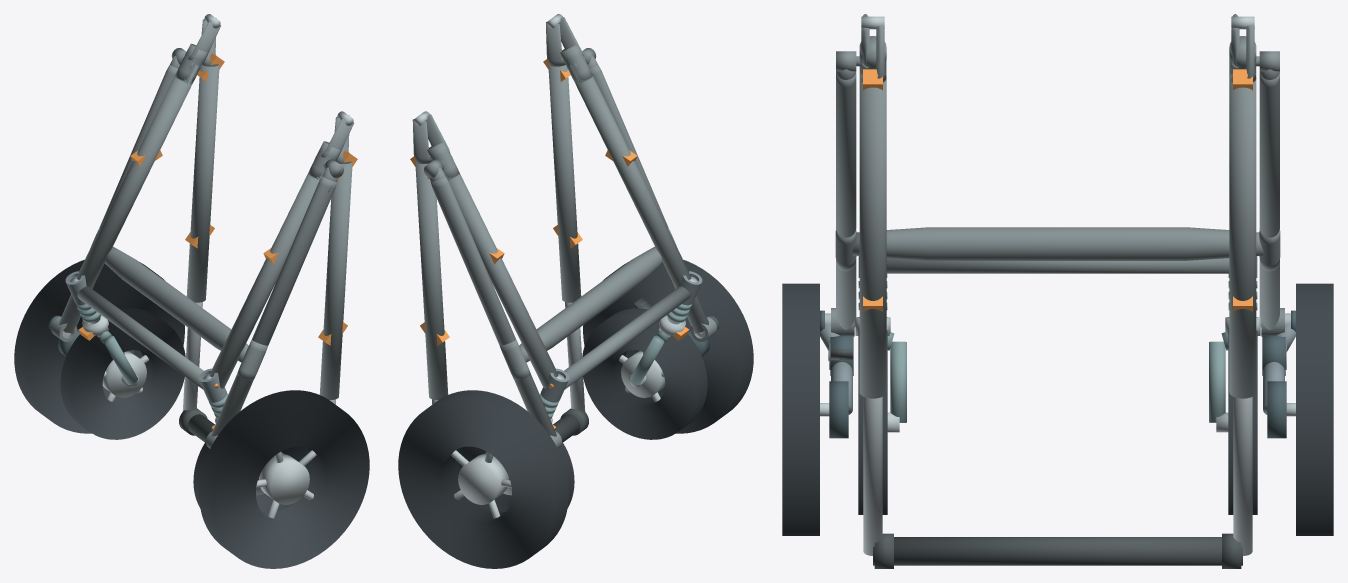
The model's file is w550_state3.glb.
The picture shows the model from 3 angles, left to right: view 1: azimuth 30°, elevation 25°; view 2: azimuth 150°, elevation 25°; view 3: azimuth 270°, elevation 25°; orthographic projection. The views are drawn at different scales.
Parts seen in each view (by area): view 1: RL_tire.004, FR_tire.004, RR_tire.004, main_upper_1.005, main_lower_1.005, main_upper_-1.005, V46_rear_leg_-1.005, main_lower_-1.005, V46_rearbar.005, front_fixed_round_tube.004, RL_sealed_hub.004, V46_rear_leg_1.005 (+11 smaller); view 2: RR_tire.004, FL_tire.004, RL_tire.004, main_upper_-1.005, main_lower_-1.005, main_upper_1.005, V46_rear_leg_1.005, main_lower_1.005, V46_rearbar.005, front_fixed_round_tube.004, RR_sealed_hub.004, V46_rear_leg_-1.005 (+11 smaller); view 3: V46_rearbar.005, RL_tire.004, RR_tire.004, round_handle.004, main_upper_1.005, main_upper_-1.005, front_fixed_round_tube.004, V46_rear_leg_1.005, V46_rear_leg_-1.005, handle_slider_1.004, handle_slider_-1.004, FL_tire.004 (+8 smaller).
Boxes of the visible parts, box(x1,y1,x2,y2) form: RL_tire.004: box(199, 390, 369, 568); FR_tire.004: box(60, 308, 185, 439); RR_tire.004: box(14, 259, 184, 433); main_upper_1.005: box(186, 65, 219, 302); main_lower_1.005: box(76, 65, 198, 288); main_upper_-1.005: box(319, 162, 352, 399); V46_rear_leg_-1.005: box(211, 176, 337, 436); main_lower_-1.005: box(209, 170, 324, 388); V46_rearbar.005: box(105, 246, 248, 362); front_fixed_round_tube.004: box(77, 286, 203, 389); RL_sealed_hub.004: box(259, 454, 309, 504); V46_rear_leg_1.005: box(59, 65, 177, 333); RR_tire.004: box(398, 390, 568, 568); FL_tire.004: box(582, 308, 707, 439); RL_tire.004: box(583, 259, 753, 433); main_upper_-1.005: box(548, 65, 581, 302); main_lower_-1.005: box(569, 65, 691, 288); main_upper_1.005: box(415, 162, 448, 399); V46_rear_leg_1.005: box(430, 176, 556, 436); main_lower_1.005: box(443, 170, 558, 388); V46_rearbar.005: box(519, 246, 662, 362); front_fixed_round_tube.004: box(564, 286, 690, 389); RR_sealed_hub.004: box(458, 454, 508, 504); V46_rear_leg_-1.005: box(590, 65, 708, 333); V46_rearbar.005: box(852, 227, 1263, 260); RL_tire.004: box(782, 283, 819, 535); RR_tire.004: box(1296, 283, 1333, 535); round_handle.004: box(873, 537, 1242, 565); main_upper_1.005: box(1229, 78, 1256, 398); main_upper_-1.005: box(859, 78, 886, 398); front_fixed_round_tube.004: box(886, 258, 1229, 273); V46_rear_leg_1.005: box(1259, 72, 1279, 329); V46_rear_leg_-1.005: box(836, 72, 856, 329); handle_slider_1.004: box(1233, 397, 1252, 555); handle_slider_-1.004: box(863, 397, 882, 555); FL_tire.004: box(858, 330, 887, 514).
Size of the model in its own units: 0.3328 by 0.7426 by 0.656.
